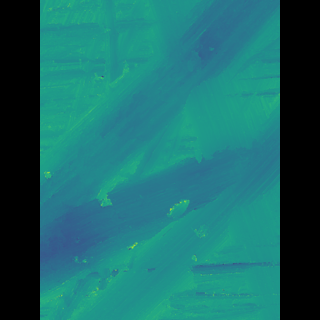Loch: (69, 0, 250, 319)
